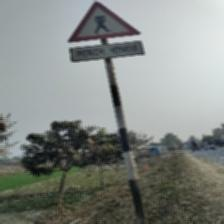Market-in-front: (67, 0, 145, 64)
